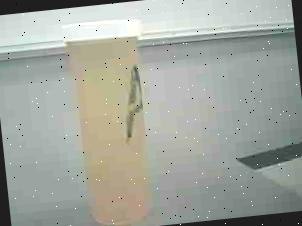Bottle A: (52, 10, 175, 226)
